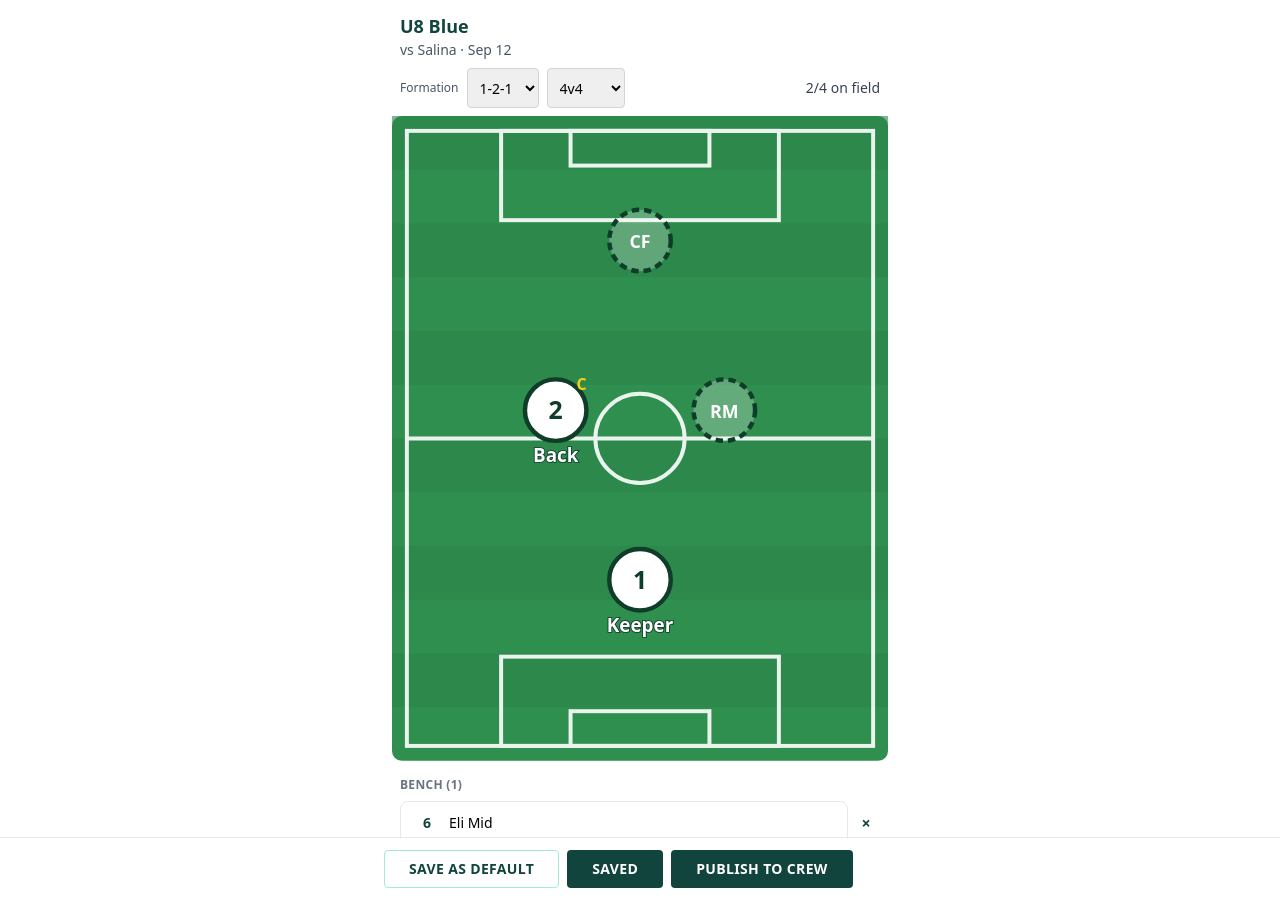
Test case: LineupBuilder › a refusal from the server is shown as its sentence, not swallowed
The image size is (1280, 900).
Expected: the heading "U8 Blue" is shown, [400, 12, 469, 40]
Click the button named "Saved?" at (615, 869), box [567, 850, 663, 888]
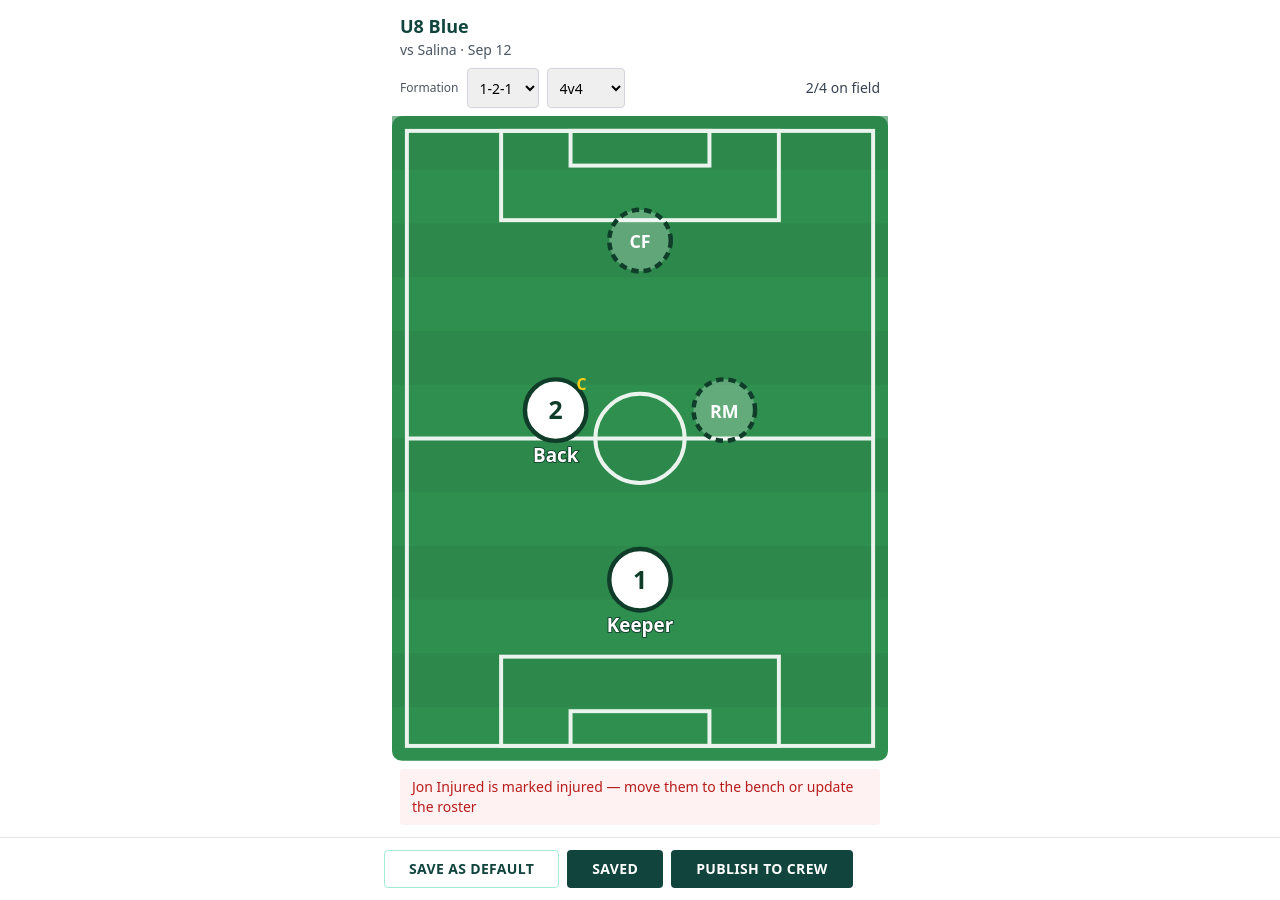
Now the message shows "Jon Injured is marked injured", box [412, 777, 853, 816]
